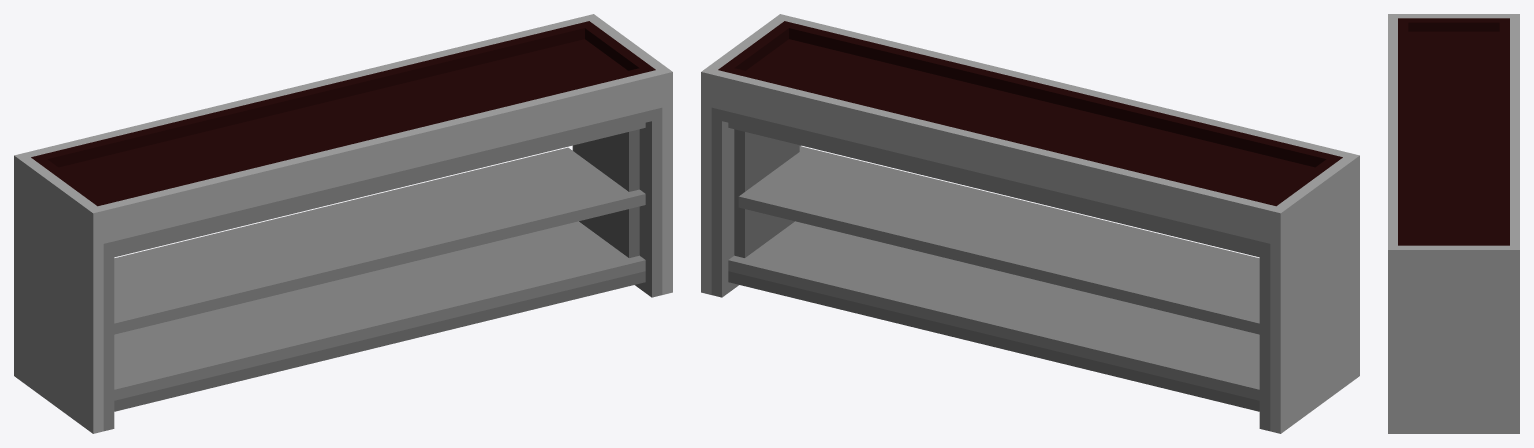
The model's file is Green House Table 3.obj.
The picture shows the model from 3 angles, left to right: view 1: azimuth 30°, elevation 25°; view 2: azimuth 150°, elevation 25°; view 3: azimuth 270°, elevation 25°; orthographic projection. The views are drawn at different scales.
Bounding box in the file's own units: 55 × 20 × 13.
Materials: 1 (1 with a texture image).
